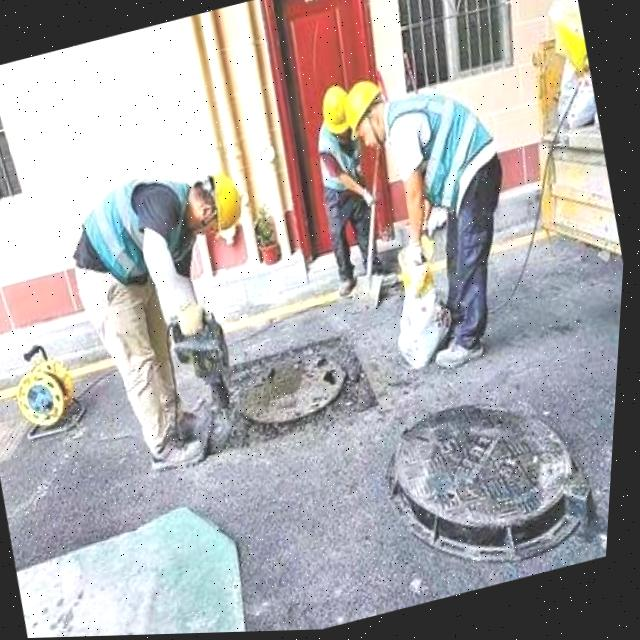manhole: (374, 376, 604, 581), (219, 324, 382, 446)
